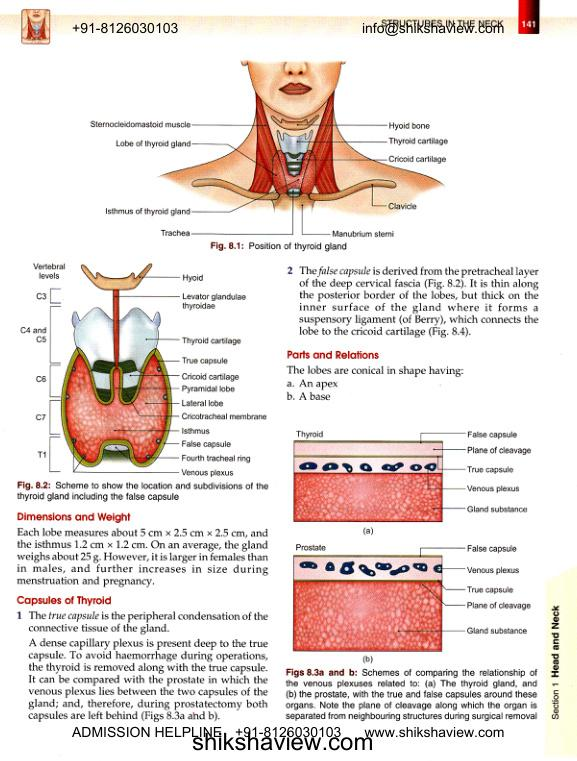caption: (284, 667, 539, 722), (16, 480, 269, 503), (209, 241, 348, 253), (361, 654, 374, 665), (362, 526, 374, 537)
image: (80, 55, 483, 239), (16, 256, 269, 479), (286, 539, 536, 653), (287, 418, 537, 524)
list: (15, 609, 269, 723), (286, 265, 540, 339), (285, 377, 340, 402)
sub-section-heading: (16, 511, 132, 524), (16, 594, 113, 607), (285, 348, 380, 360)
text: (16, 526, 270, 590), (286, 364, 465, 378)
